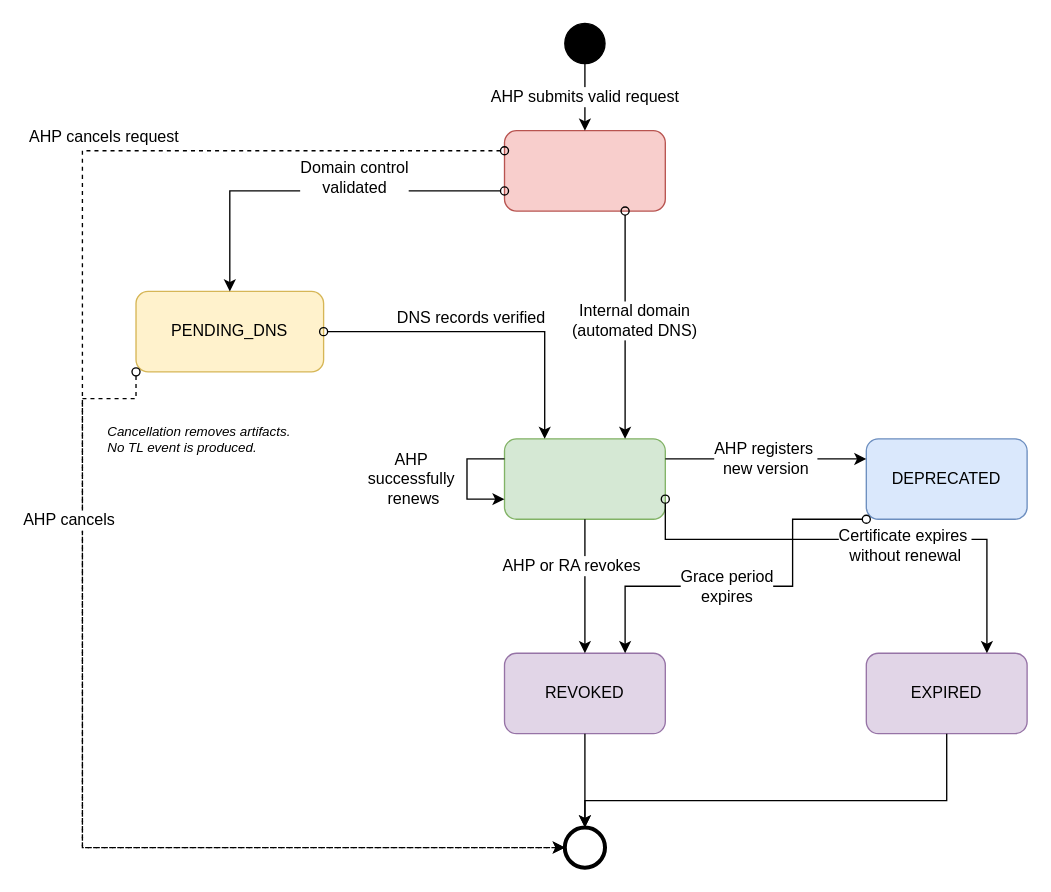
Image size: 1051x892. Some labels were removed from this diagram. Each missing label, with the centre of its shape:
ACTIVE: the point at 584,478
PENDING: the point at 584,170
